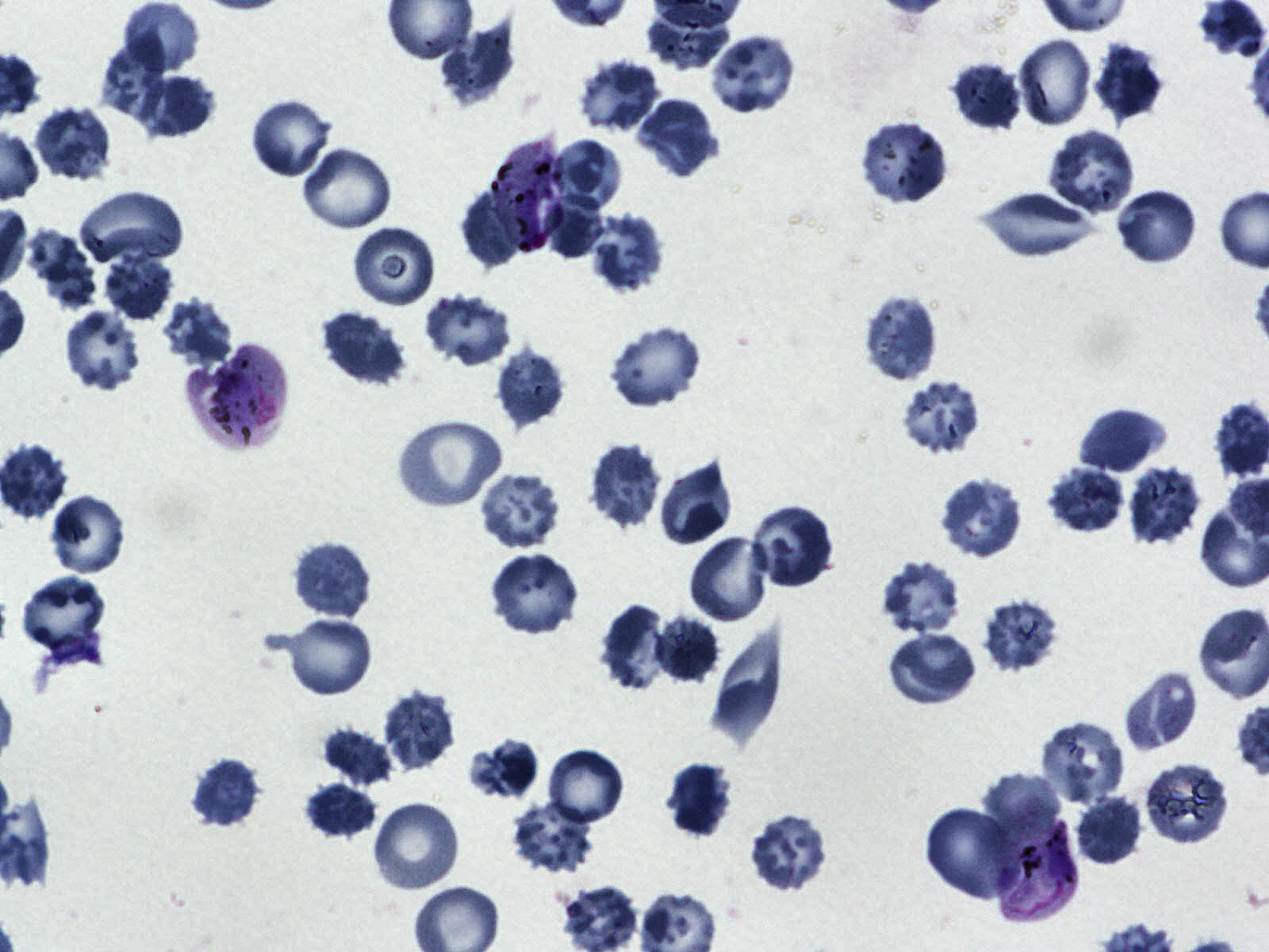Infected: (184, 344, 286, 445), (995, 819, 1076, 923), (491, 140, 565, 252)
Uninfected: (396, 416, 508, 509), (923, 803, 1018, 904), (711, 617, 783, 746), (371, 800, 463, 895), (301, 145, 395, 235), (608, 322, 704, 408), (1143, 760, 1232, 850), (490, 551, 581, 638), (1046, 129, 1135, 217), (688, 534, 774, 625), (862, 121, 949, 209), (1041, 720, 1126, 808), (706, 33, 795, 117), (979, 191, 1094, 256), (1017, 35, 1094, 131), (749, 503, 834, 589), (285, 615, 373, 697), (635, 96, 719, 181), (477, 469, 564, 551), (62, 305, 144, 392), (424, 287, 512, 368), (353, 224, 436, 309), (600, 604, 677, 695), (81, 189, 181, 259), (657, 457, 734, 547), (941, 475, 1022, 560), (888, 631, 979, 706), (880, 555, 963, 637), (48, 493, 128, 578), (320, 308, 406, 387), (582, 211, 664, 293), (864, 293, 938, 383), (440, 15, 513, 106), (250, 97, 332, 178), (899, 376, 982, 456), (101, 25, 167, 125), (749, 812, 829, 894), (546, 747, 626, 829), (590, 439, 663, 527), (293, 539, 372, 620), (23, 580, 105, 658), (1117, 186, 1196, 266), (1081, 405, 1167, 478), (1120, 669, 1195, 751), (385, 688, 458, 771), (496, 345, 568, 429), (32, 106, 110, 183), (24, 227, 96, 310), (982, 593, 1052, 677), (189, 754, 263, 833), (1129, 464, 1202, 544), (981, 773, 1060, 846), (945, 58, 1022, 132), (1092, 42, 1164, 121), (585, 63, 666, 132), (1075, 792, 1147, 868), (513, 804, 592, 872), (125, 2, 198, 73), (651, 614, 721, 688), (1050, 472, 1131, 534), (105, 249, 171, 324), (467, 737, 540, 804), (138, 75, 217, 136), (301, 781, 380, 841), (462, 184, 517, 270), (667, 764, 730, 839), (554, 140, 619, 212), (163, 298, 230, 364), (319, 727, 393, 786), (546, 191, 605, 258)
